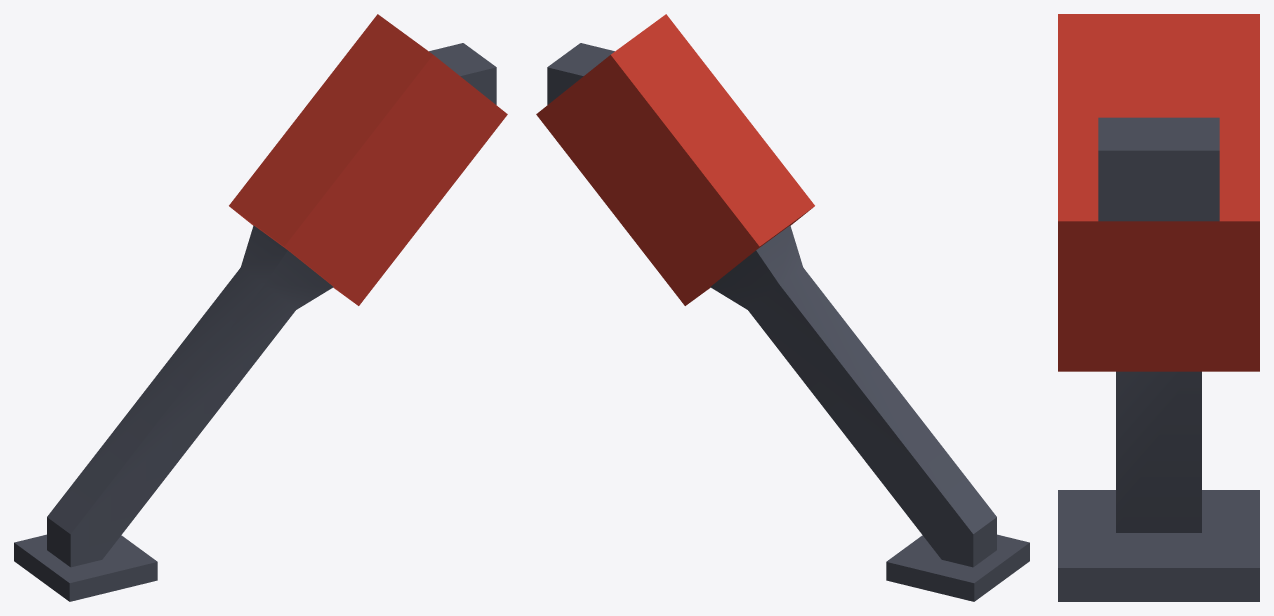
Rendered from RedLever.fbx.
3 views of the same model, side by side, from view 1: azimuth 30°, elevation 25°; view 2: azimuth 150°, elevation 25°; view 3: azimuth 270°, elevation 25° (orthographic). The views are drawn at different scales.
Visible parts, largest first — view 1: landing_telescope%_0; view 2: landing_telescope%_0; view 3: landing_telescope%_0.
Part boxes in pixels (x1=…): landing_telescope%_0: x1=14, y1=14, x2=507, y2=601; landing_telescope%_0: x1=536, y1=14, x2=1029, y2=601; landing_telescope%_0: x1=1058, y1=14, x2=1259, y2=601.
Size of the model in its own units: 10 by 10 by 2.2.
